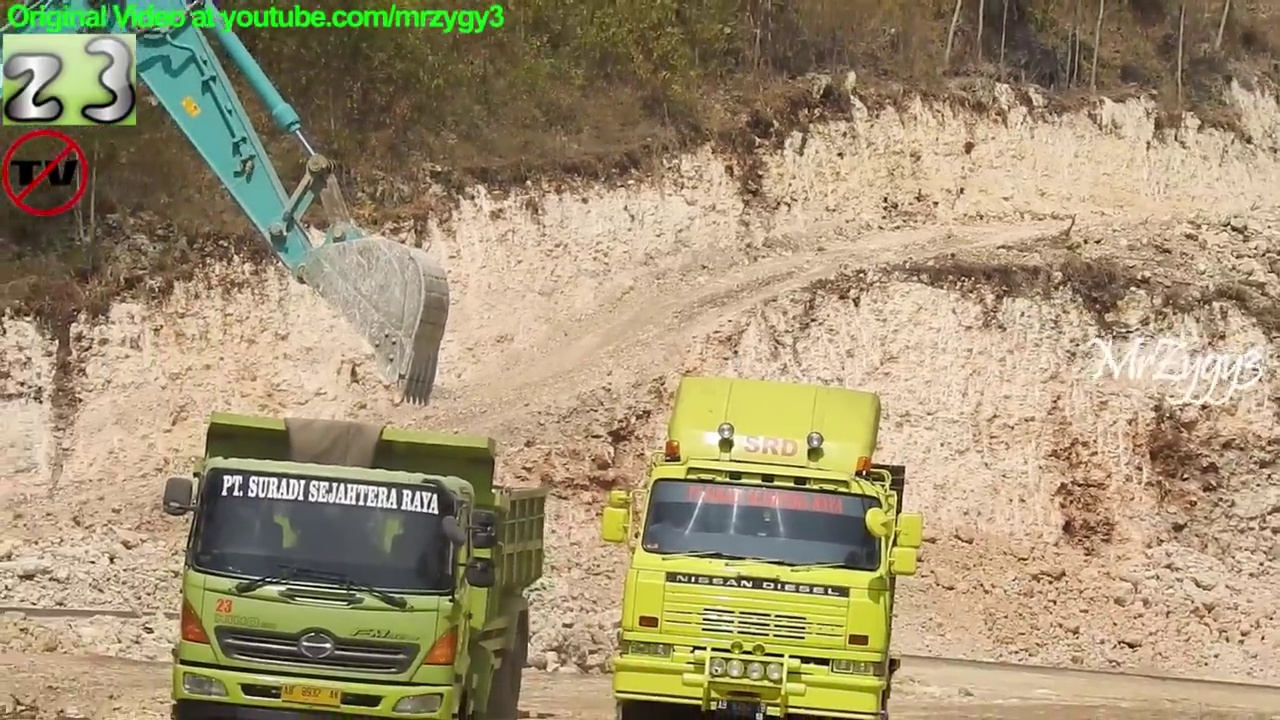excavator: (1, 1, 458, 416)
truck: (157, 409, 554, 720), (595, 371, 930, 720)
